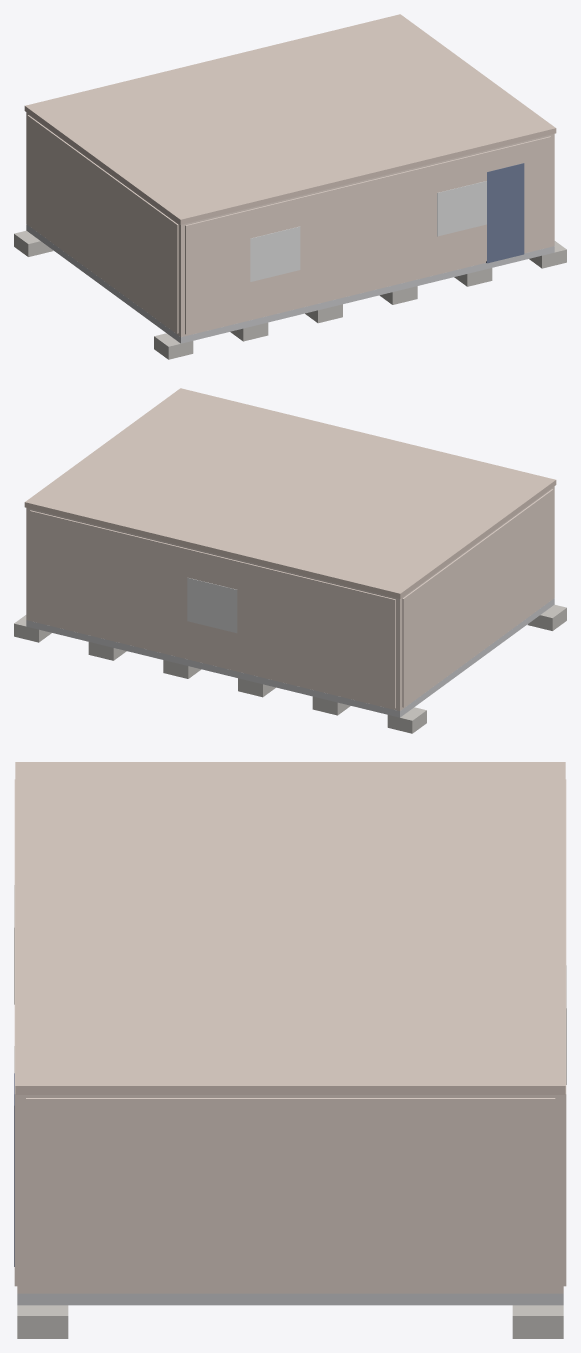
The model's file is Studio-30-Base-Mauve-LOD1.glb.
3 views of the same model, one above another, from view 1: azimuth 30°, elevation 25°; view 2: azimuth 150°, elevation 25°; view 3: azimuth 270°, elevation 25° (orthographic). The views are drawn at different scales.
Parts seen in each view (by area): view 1: RoofMain, ExteriorPanelsStandard, WindowsStandard, BaseFrame, FoundationBlocks, EntryDoor, ExteriorShell; view 2: RoofMain, ExteriorPanelsStandard, BaseFrame, FoundationBlocks, ExteriorShell, WindowsStandard; view 3: RoofMain, ExteriorPanelsStandard, BaseFrame, ExteriorShell, FoundationBlocks.
Part boxes in pixels (x1,y1,x2,y2): RoofMain: (24,14,556,224); ExteriorPanelsStandard: (27,115,551,334); WindowsStandard: (250,181,486,281); BaseFrame: (26,224,554,343); FoundationBlocks: (14,230,566,359); EntryDoor: (486,163,524,263); ExteriorShell: (26,112,554,336); RoofMain: (24,388,556,598); ExteriorPanelsStandard: (30,489,553,708); BaseFrame: (26,598,554,717); FoundationBlocks: (14,604,566,733); ExteriorShell: (26,486,554,710); WindowsStandard: (187,577,237,633); RoofMain: (15,762,565,1094); ExteriorPanelsStandard: (14,779,566,1290); BaseFrame: (17,1293,563,1305); ExteriorShell: (17,1095,563,1293); FoundationBlocks: (17,1305,563,1338).
Bounding box in the file's own units: 9.6 × 3.17 × 6.53.
